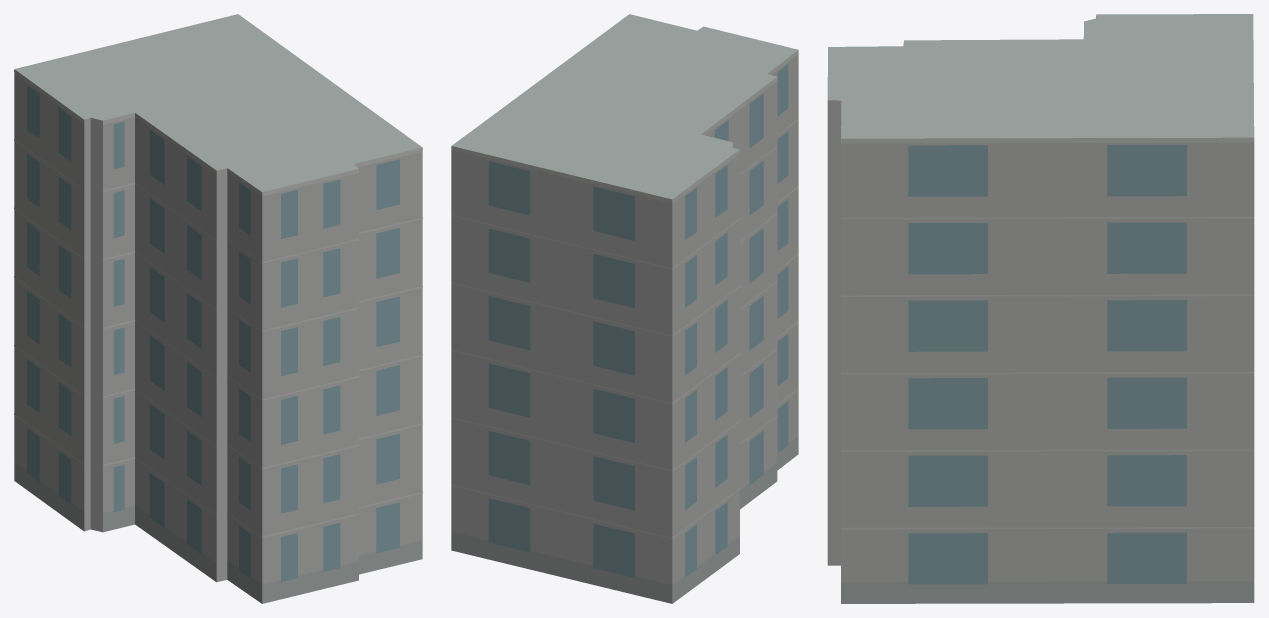
The model's file is survey-upis-32692998.glb.
3 views of the same model, side by side, from view 1: azimuth 30°, elevation 25°; view 2: azimuth 150°, elevation 25°; view 3: azimuth 270°, elevation 25° (orthographic). The views are drawn at different scales.
Visible parts, largest first — view 1: survey-upis-32692998.tmp; view 2: survey-upis-32692998.tmp; view 3: survey-upis-32692998.tmp.
Boxes of the visible parts, x1,y1,x2,y2 form: survey-upis-32692998.tmp: [14, 14, 422, 603]; survey-upis-32692998.tmp: [451, 14, 798, 603]; survey-upis-32692998.tmp: [827, 14, 1254, 603].
Bounding box in the file's own units: 13.41 × 23.3 × 19.39.
